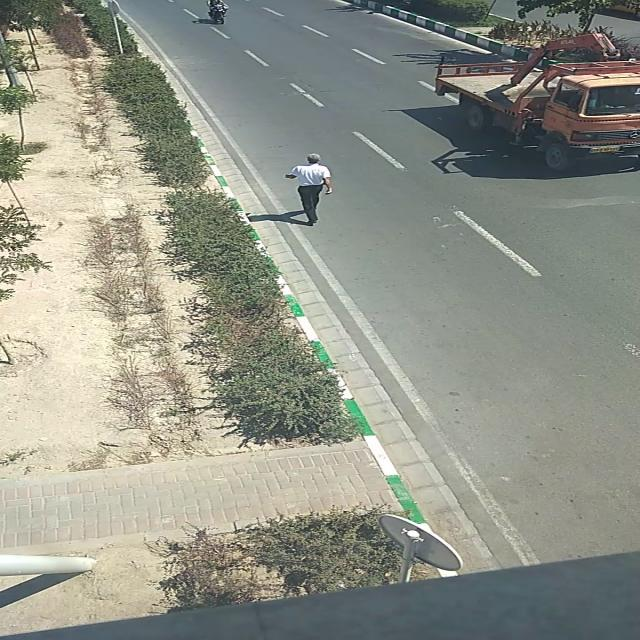motorbike: (207, 0, 230, 24)
truck: (438, 34, 640, 170)
